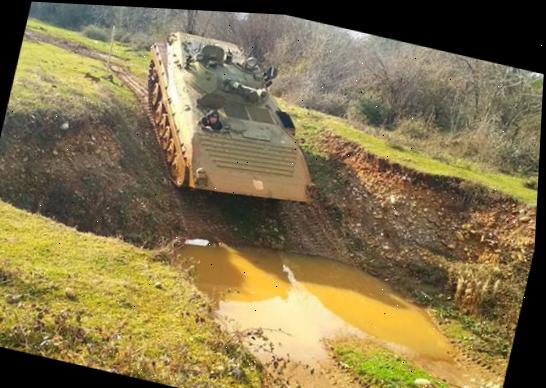tank: (116, 21, 344, 222)
